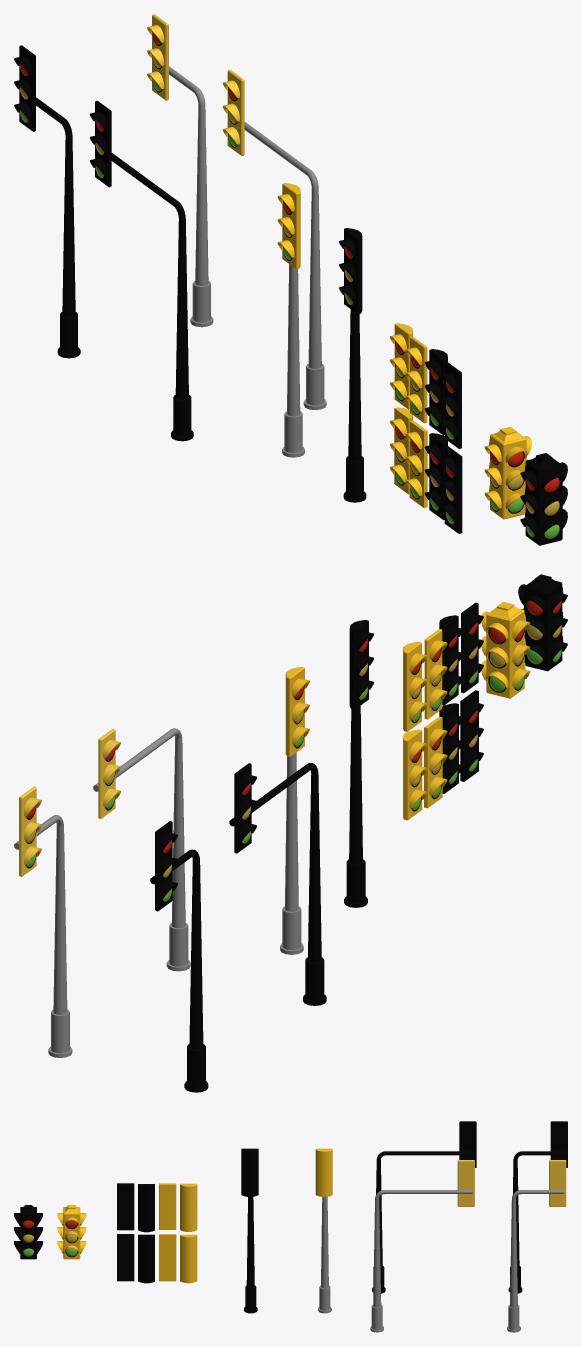
File: simple_low_poly_street_trafic_lights.glb
3 views of the same model, one above another, from view 1: azimuth 30°, elevation 25°; view 2: azimuth 150°, elevation 25°; view 3: azimuth 270°, elevation 25° (orthographic). The views are drawn at different scales.
Parts seen in each view (by area): view 1: FarolaModernaRodonaDe1.013, FarolaModernaRodonaDe1.011, FarolaModernaRodonaDe1.012, FarolaModernaRodonaDe1.010, FarolaModernaRodonaDe1.014, FarolaModernaRodonaDe1.015, FarolaModernaRodonaDe1.025, FarolaModernaRodonaDe1.024, FarolaModernaRodonaDe1.018, FarolaModernaRodonaDe1.019, FarolaModernaRodonaDe1.023, FarolaModernaRodonaDe1.022 (+4 smaller); view 2: FarolaModernaRodonaDe1.011, FarolaModernaRodonaDe1.013, FarolaModernaRodonaDe1.010, FarolaModernaRodonaDe1.012, FarolaModernaRodonaDe1.015, FarolaModernaRodonaDe1.014, FarolaModernaRodonaDe1.024, FarolaModernaRodonaDe1.025, FarolaModernaRodonaDe1.016, FarolaModernaRodonaDe1.020, FarolaModernaRodonaDe1.018, FarolaModernaRodonaDe1.019 (+4 smaller); view 3: FarolaModernaRodonaDe1.013, FarolaModernaRodonaDe1.012, FarolaModernaRodonaDe1.015, FarolaModernaRodonaDe1.014, FarolaModernaRodonaDe1.011, FarolaModernaRodonaDe1.010, FarolaModernaRodonaDe1.024, FarolaModernaRodonaDe1.025, FarolaModernaRodonaDe1.016, FarolaModernaRodonaDe1.020, FarolaModernaRodonaDe1.018, FarolaModernaRodonaDe1.019 (+4 smaller).
Boxes of the visible parts, x1,y1,x2,y2 form: FarolaModernaRodonaDe1.013: (222,69,326,409); FarolaModernaRodonaDe1.011: (89,100,193,441); FarolaModernaRodonaDe1.012: (147,14,213,327); FarolaModernaRodonaDe1.010: (14,45,80,358); FarolaModernaRodonaDe1.014: (277,183,304,457); FarolaModernaRodonaDe1.015: (339,228,366,502); FarolaModernaRodonaDe1.025: (520,453,567,545); FarolaModernaRodonaDe1.024: (484,426,531,519); FarolaModernaRodonaDe1.018: (440,446,462,533); FarolaModernaRodonaDe1.019: (405,420,427,507); FarolaModernaRodonaDe1.023: (405,336,427,423); FarolaModernaRodonaDe1.022: (440,362,461,448); FarolaModernaRodonaDe1.011: (229,763,326,1005); FarolaModernaRodonaDe1.013: (93,728,190,971); FarolaModernaRodonaDe1.010: (150,821,208,1092); FarolaModernaRodonaDe1.012: (14,786,72,1057); FarolaModernaRodonaDe1.015: (344,620,373,907); FarolaModernaRodonaDe1.014: (280,667,309,954); FarolaModernaRodonaDe1.024: (481,602,530,698); FarolaModernaRodonaDe1.025: (518,574,567,671); FarolaModernaRodonaDe1.016: (403,729,427,820); FarolaModernaRodonaDe1.020: (403,641,427,731); FarolaModernaRodonaDe1.018: (460,690,483,781); FarolaModernaRodonaDe1.019: (424,716,447,808); FarolaModernaRodonaDe1.013: (370,1160,474,1332); FarolaModernaRodonaDe1.012: (507,1160,566,1332); FarolaModernaRodonaDe1.015: (241,1148,258,1313); FarolaModernaRodonaDe1.014: (315,1148,332,1313); FarolaModernaRodonaDe1.011: (372,1121,476,1293); FarolaModernaRodonaDe1.010: (508,1121,567,1293); FarolaModernaRodonaDe1.024: (57,1205,86,1259); FarolaModernaRodonaDe1.025: (14,1205,42,1259); FarolaModernaRodonaDe1.016: (180,1234,197,1283); FarolaModernaRodonaDe1.020: (180,1183,197,1231); FarolaModernaRodonaDe1.018: (117,1234,134,1281); FarolaModernaRodonaDe1.019: (159,1234,176,1281).
Size of the model in its own units: 2.06 by 3.48 by 10.43.
1 material, 1 textured.
